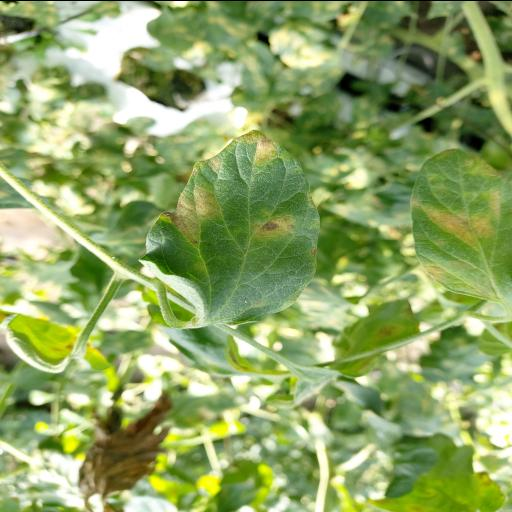disease_tomato: (139, 128, 322, 326), (407, 148, 512, 306)
